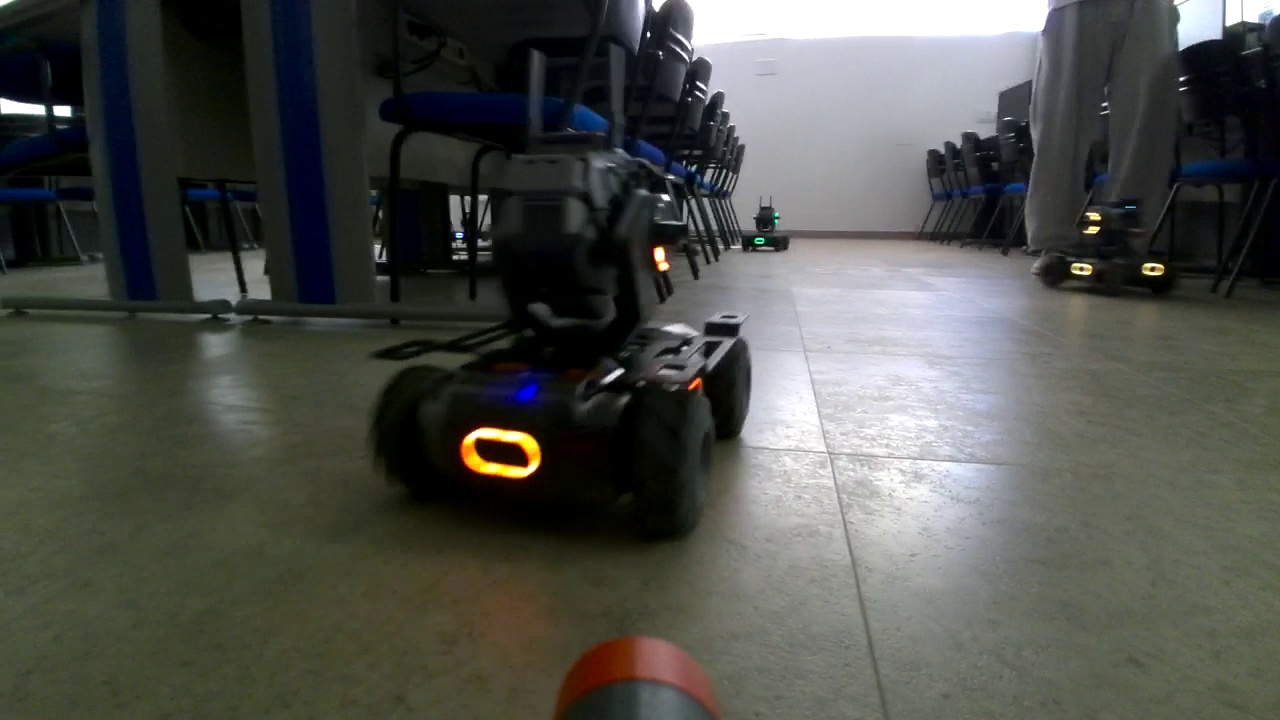robot: (373, 47, 743, 532), (1038, 186, 1174, 301), (738, 196, 791, 257)
